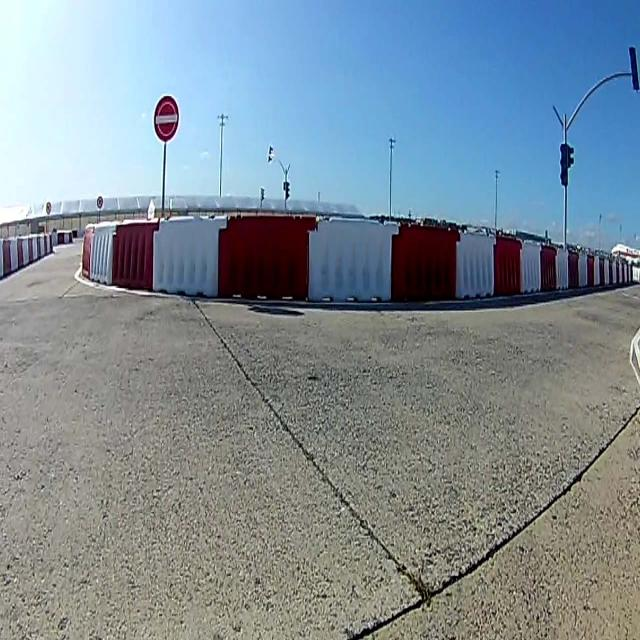girisyok: (154, 95, 178, 140)
